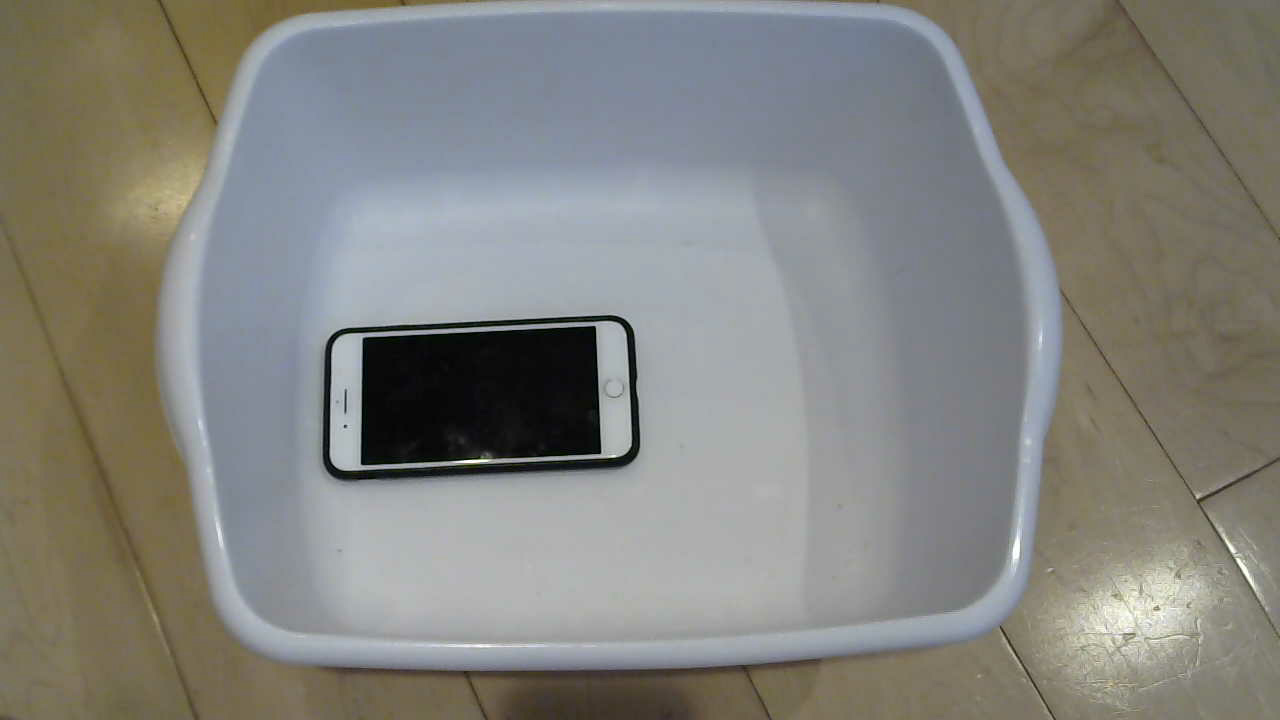phone: (323, 317, 648, 488)
